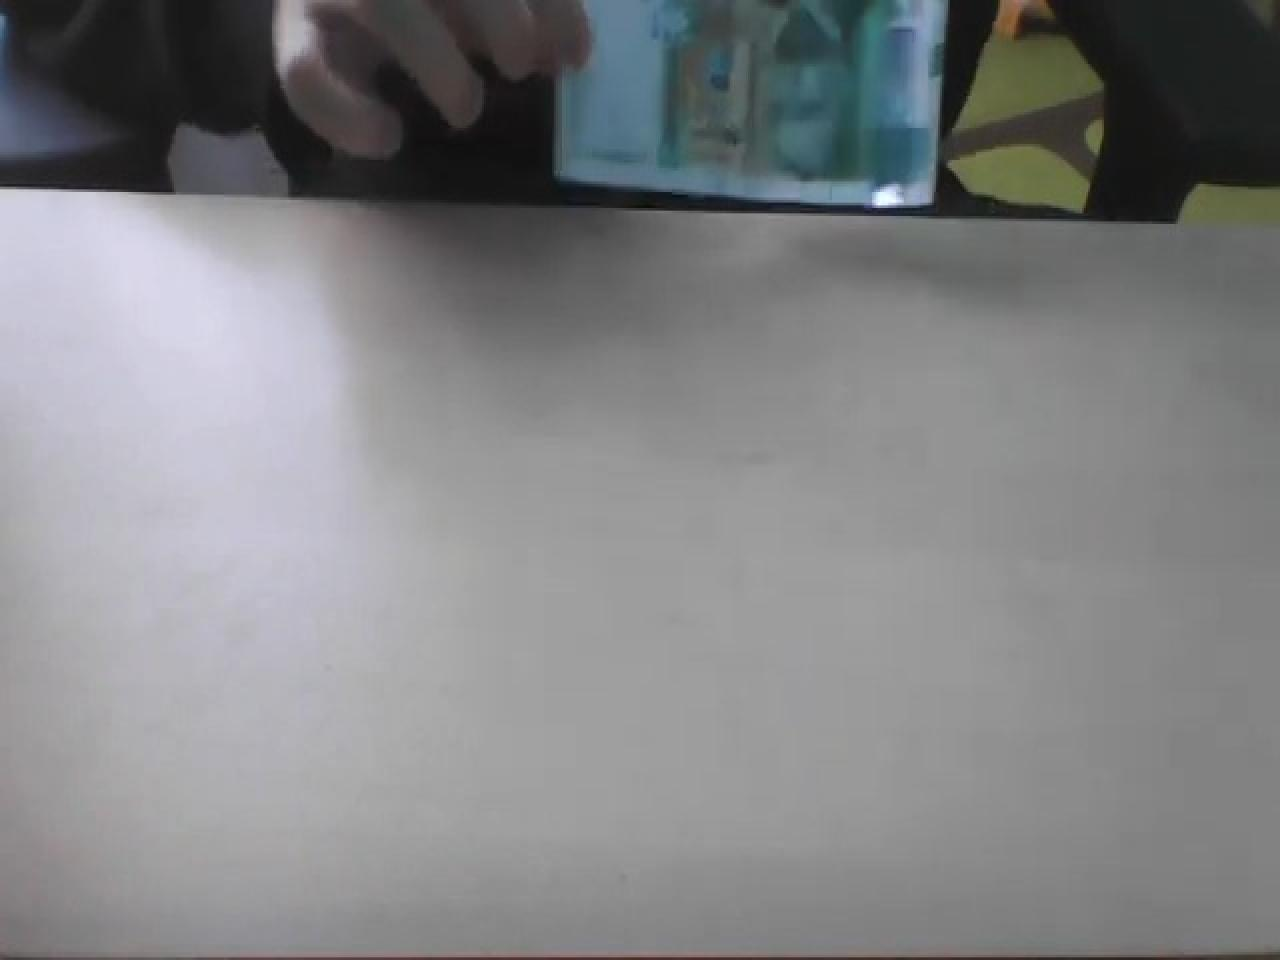100leva: (550, 0, 950, 211)
